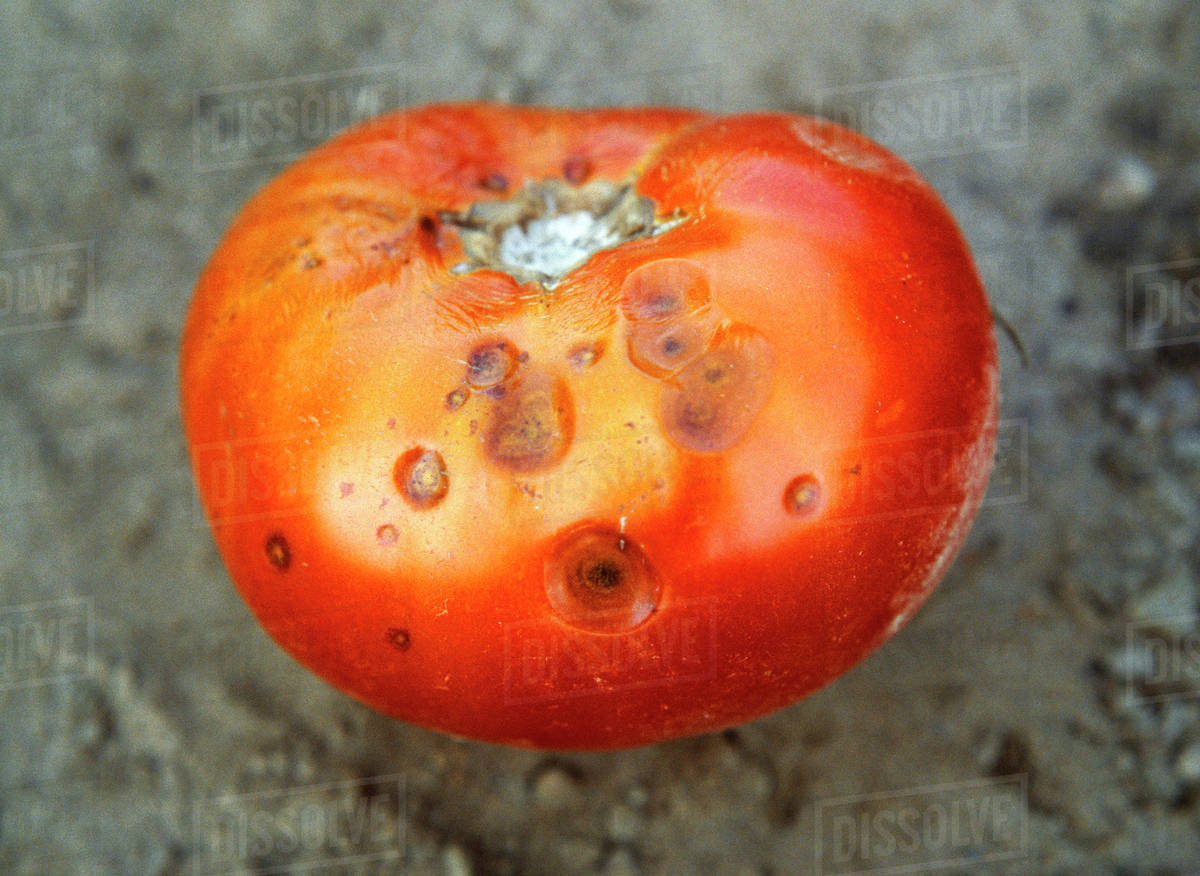anthracnose: (325, 138, 774, 429)
